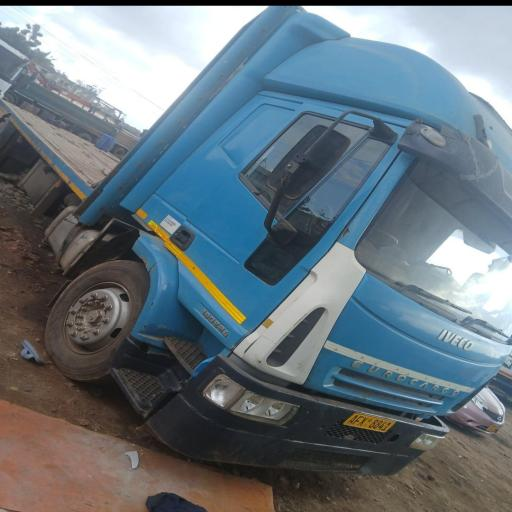number-plates: (345, 407, 396, 438)
